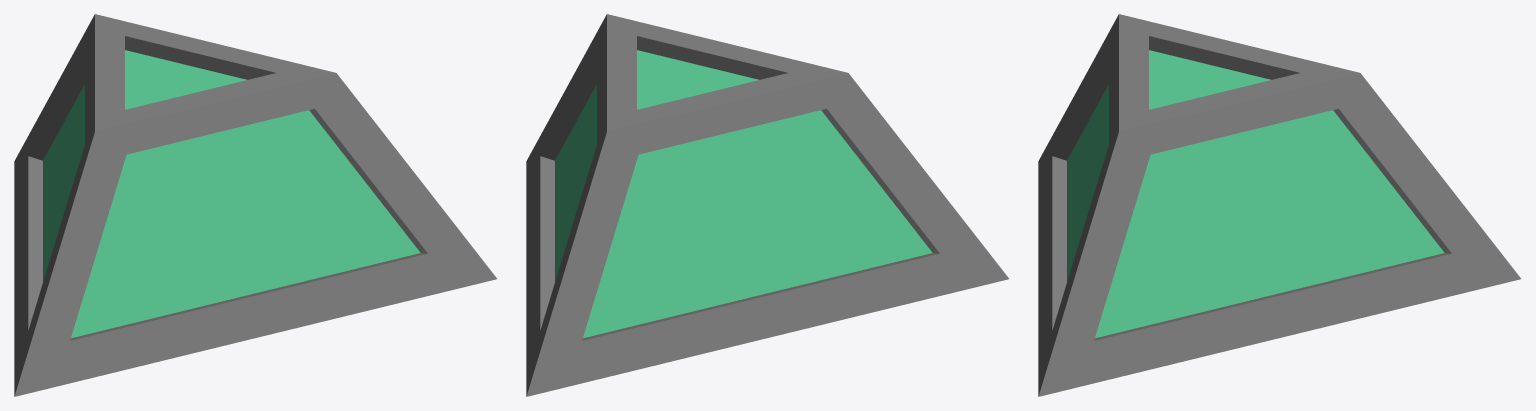
The model's file is player1.fbx.
3 renders of one model, left to right at view 1: azimuth 30°, elevation 25°; view 2: azimuth 150°, elevation 25°; view 3: azimuth 270°, elevation 25°, orthographic.
Visible parts, largest first — view 1: Frame, BeatShutterMiddle, BeatShutterLeft, BeatShutterTop; view 2: Frame, BeatShutterLeft, BeatShutterRight, BeatShutterTop; view 3: Frame, BeatShutterRight, BeatShutterMiddle, BeatShutterTop.
Boxes of the visible parts, box(x1,y1,x2,y2) form: Frame: box(14, 14, 496, 396); BeatShutterMiddle: box(71, 110, 420, 338); BeatShutterLeft: box(43, 84, 84, 281); BeatShutterTop: box(125, 50, 246, 109); Frame: box(526, 14, 1008, 396); BeatShutterLeft: box(583, 110, 932, 338); BeatShutterRight: box(555, 84, 596, 281); BeatShutterTop: box(637, 50, 758, 109); Frame: box(1038, 14, 1520, 396); BeatShutterRight: box(1095, 110, 1444, 338); BeatShutterMiddle: box(1067, 84, 1108, 281); BeatShutterTop: box(1149, 50, 1270, 109).
Bounding box in the file's own units: 1.73 × 0.7063 × 1.5.
